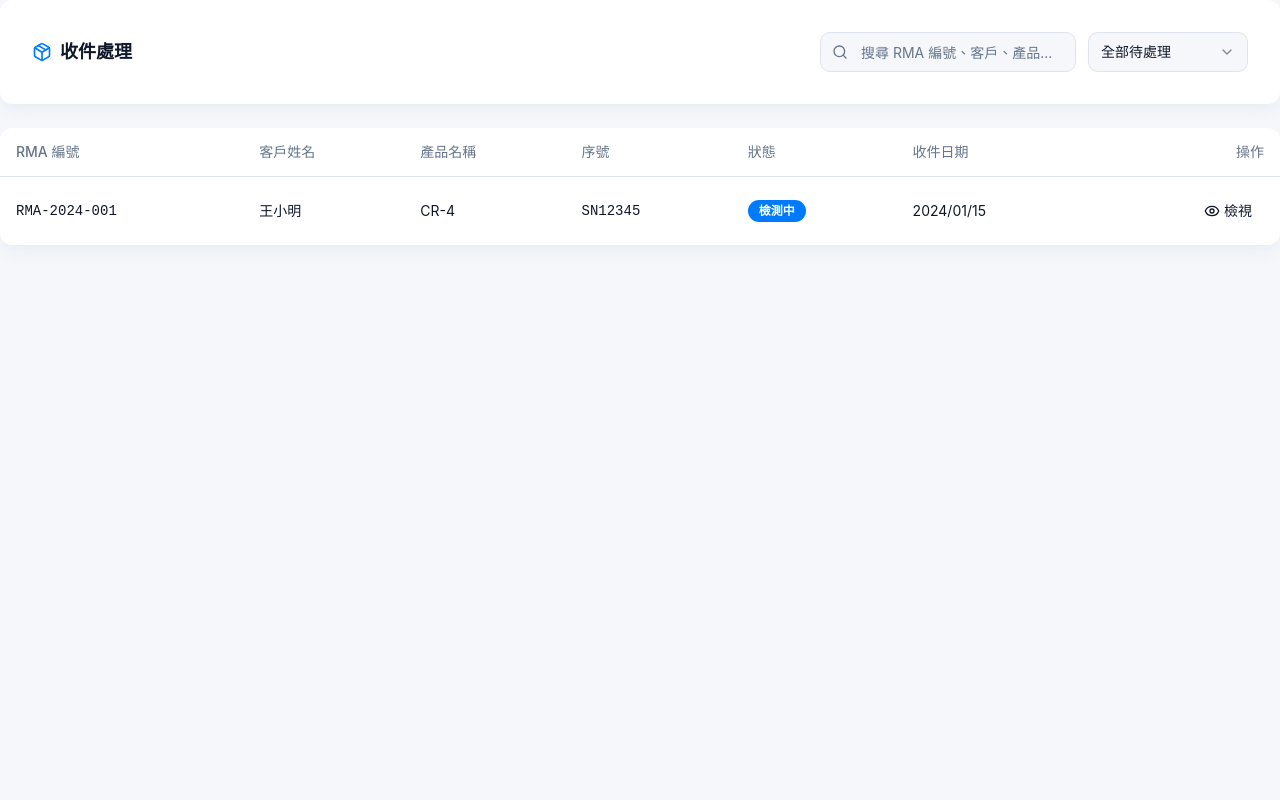
Test case: ReceivingTab - Phase 1 診斷欄位 › 對話框預設不顯示替換欄位
Click the button "檢視" at {"x": 1228, "y": 210}, box [1192,192,1264,228]
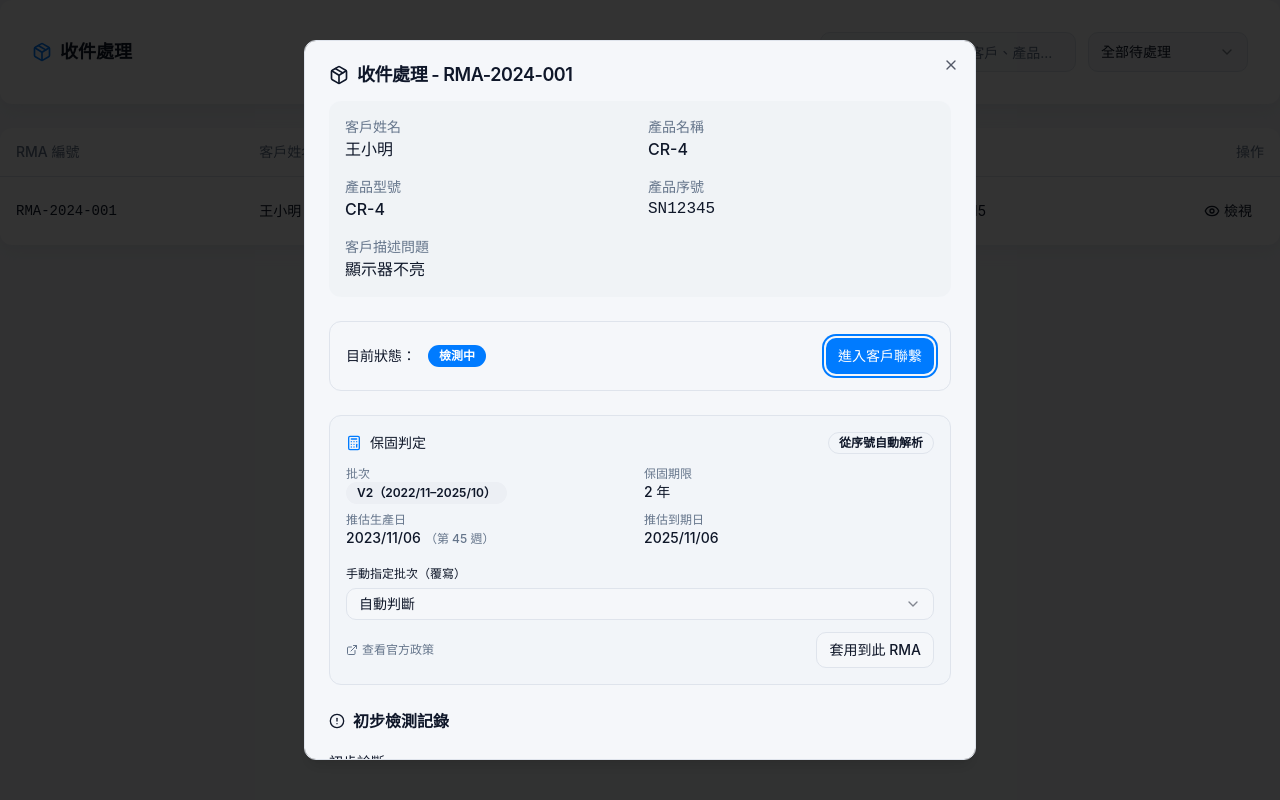
Check: the heading "收件處理 - RMA-2024-001" is shown, box [329,64,572,85]
